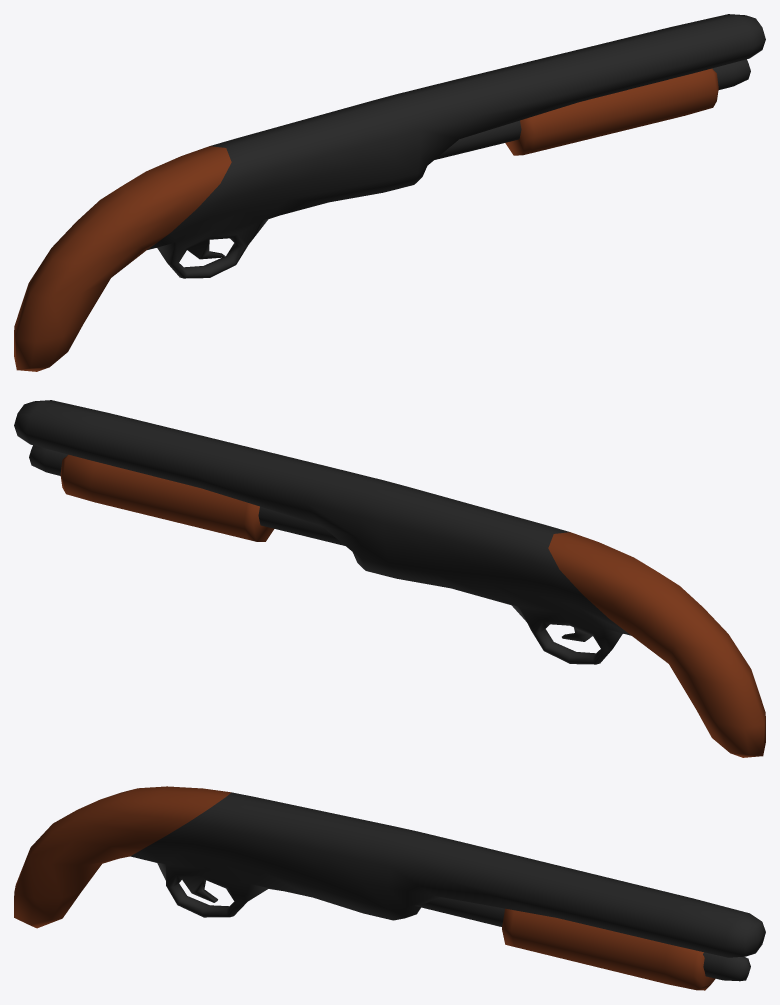
The model's file is Shotgun.fbx.
3 renders of one model, top to bottom at view 1: azimuth 30°, elevation 25°; view 2: azimuth 150°, elevation 25°; view 3: azimuth 330°, elevation 25°, orthographic.
Parts seen in each view (by area): view 1: Shotgun; view 2: Shotgun; view 3: Shotgun.
Part boxes in pixels (x1,y1,x2,y2): Shotgun: (14,14,765,371); Shotgun: (14,400,765,757); Shotgun: (14,786,765,990).
Bounding box in the file's own units: 6676 × 1587 × 506.
